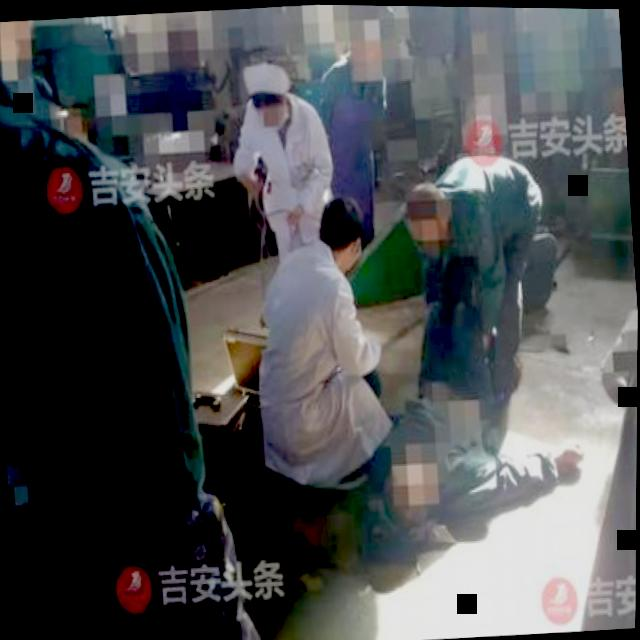Fall-Detected: (366, 362, 600, 538)
